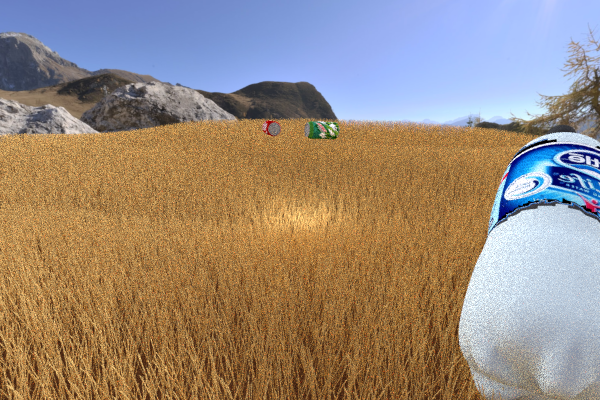bottle: (458, 124, 600, 400)
can: (304, 121, 339, 139), (262, 120, 281, 136)
